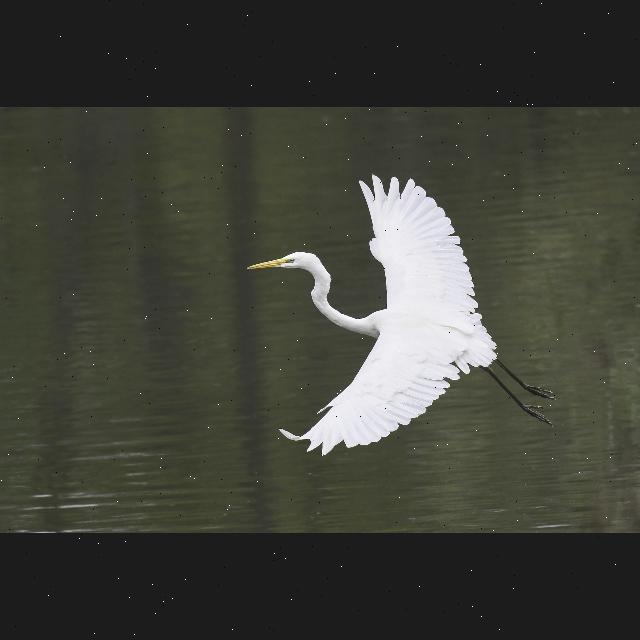egret: (250, 175, 558, 453)
